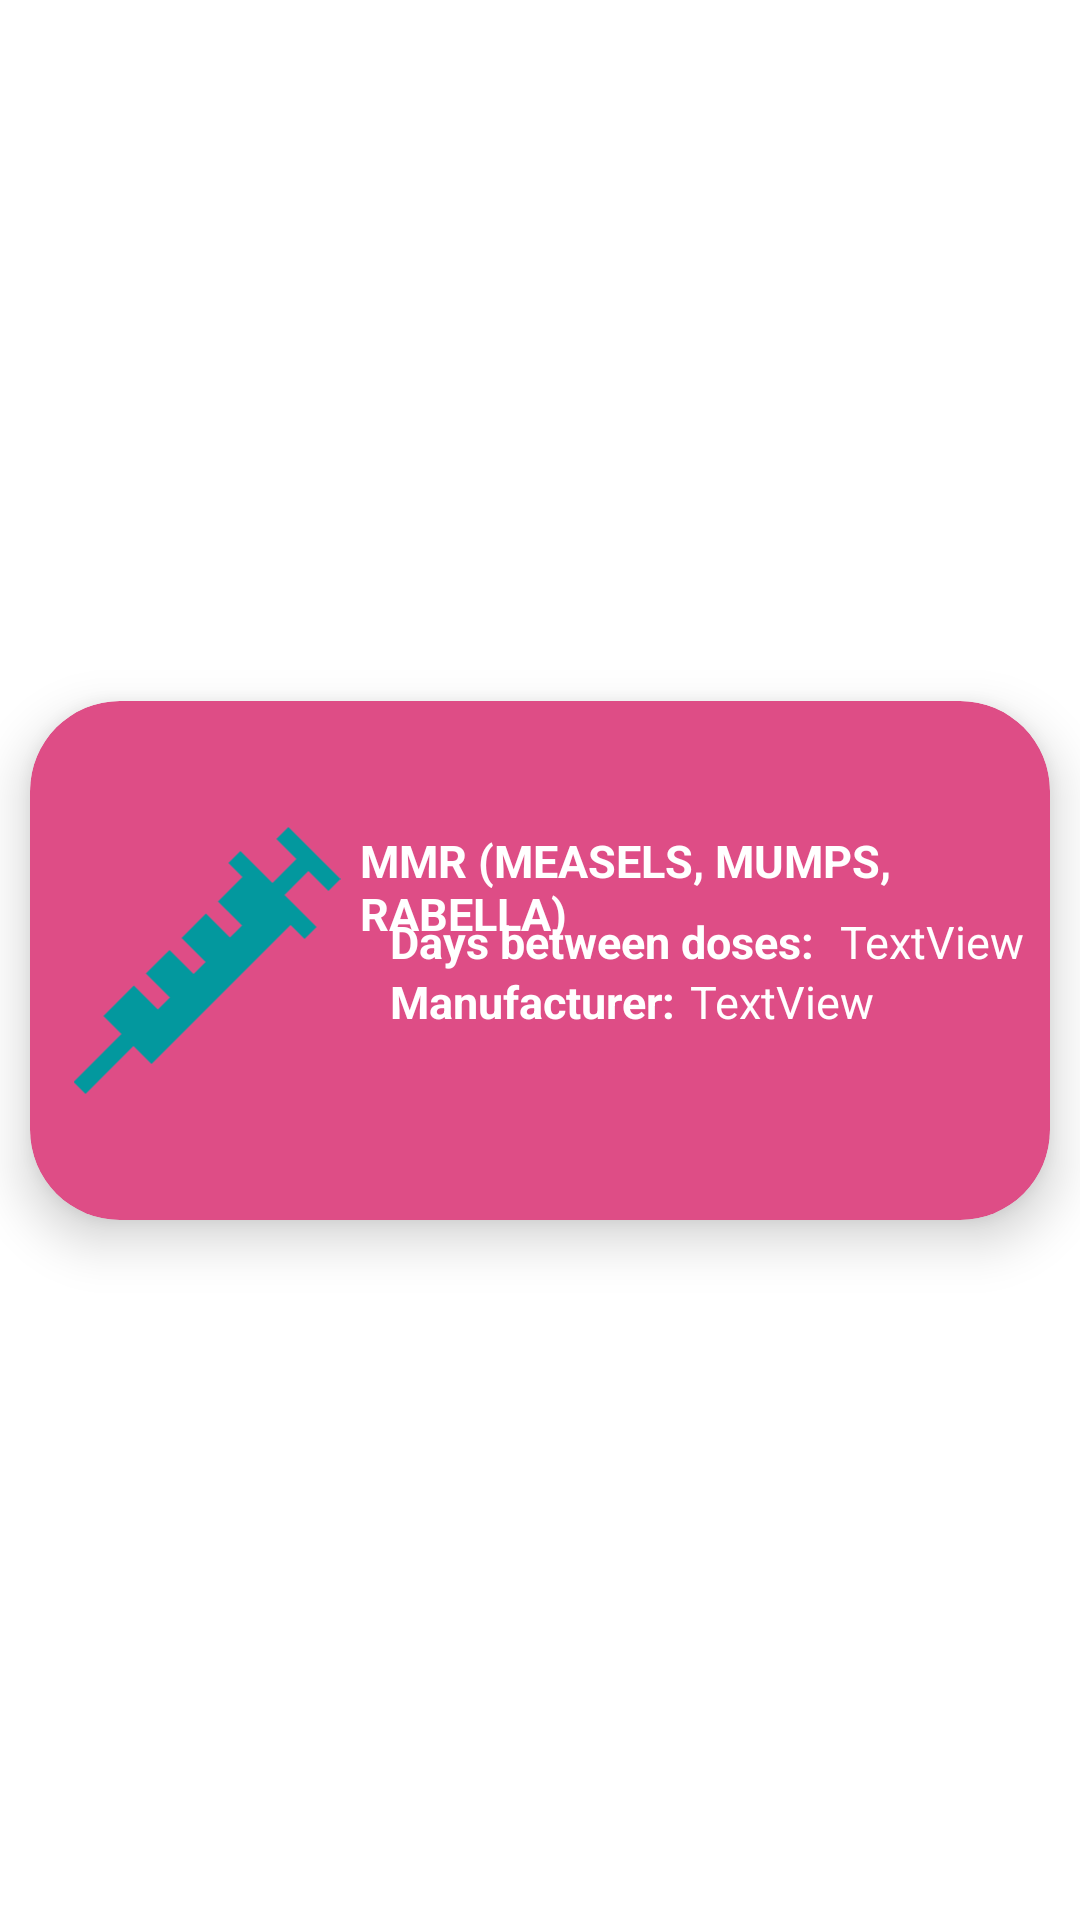

Locate icon controls on the screen. Image size 1080×1920, boxes as (x1, y1, x2, y2).
syringe: (74, 827, 341, 1094)
